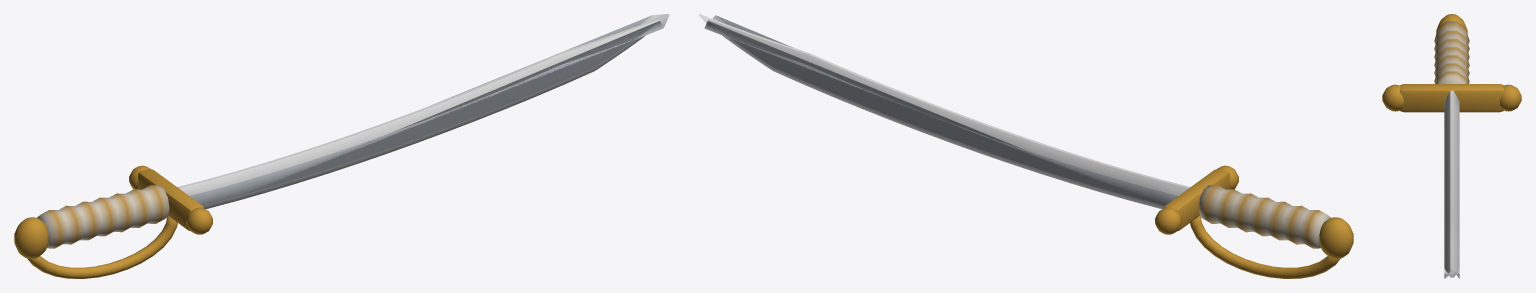
The model's file is sword_saber.glb.
3 views of the same model, side by side, from view 1: azimuth 30°, elevation 25°; view 2: azimuth 150°, elevation 25°; view 3: azimuth 270°, elevation 25° (orthographic).
Visible parts, largest first — view 1: sword_saber; view 2: sword_saber; view 3: sword_saber.
Boxes of the visible parts, left/top/right/bottom form: sword_saber: left=14, top=14, right=669, bottom=278; sword_saber: left=698, top=14, right=1353, bottom=278; sword_saber: left=1382, top=14, right=1521, bottom=278.
Size of the model in its own units: 1.38 by 0.2504 by 0.2587.
